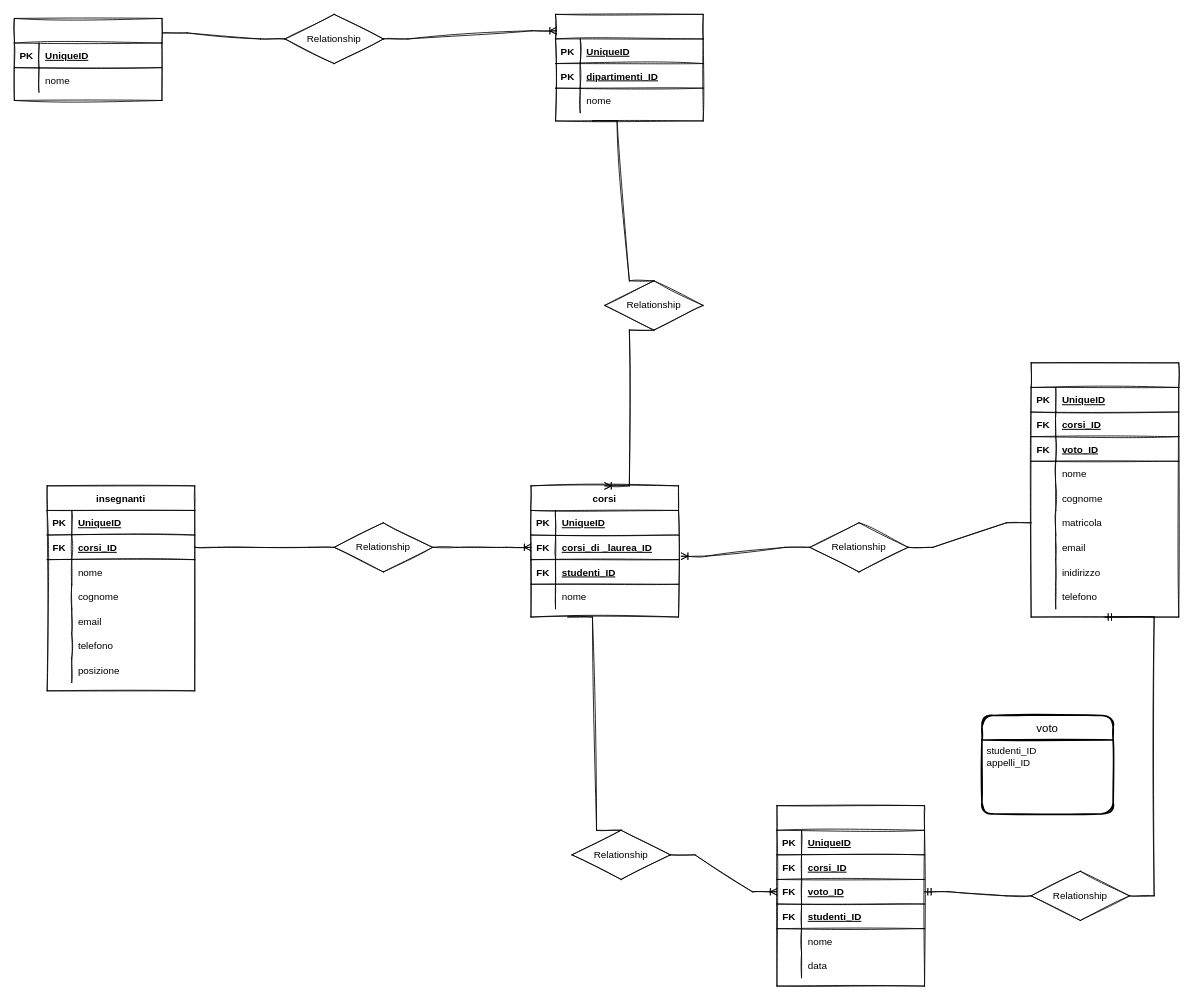
Some shapes in this 1193 by 1000 pixel diagram are drawn without their labels. Here are the shapes that lost their labels. From the top down, the box of each, then its label:
(14, 18, 162, 100): dipartimenti
(555, 14, 703, 121): corsi di laurea
(1030, 362, 1179, 617): studenti
(776, 805, 925, 986): appelli
